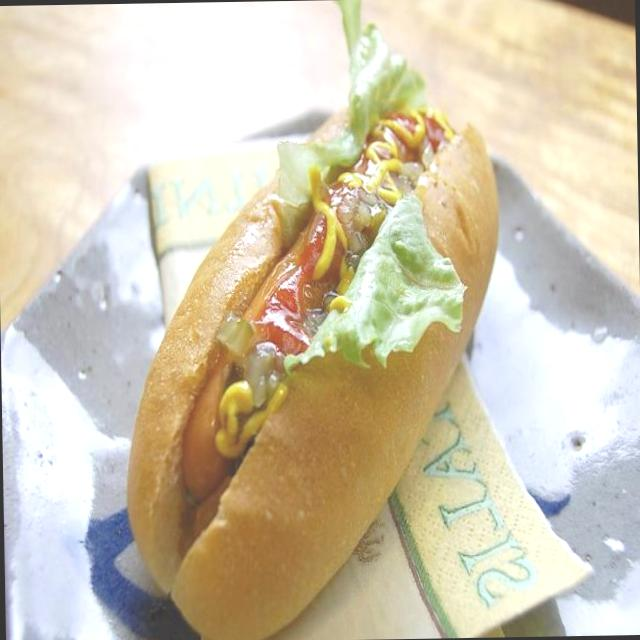Hot Dog: (116, 0, 525, 566)
